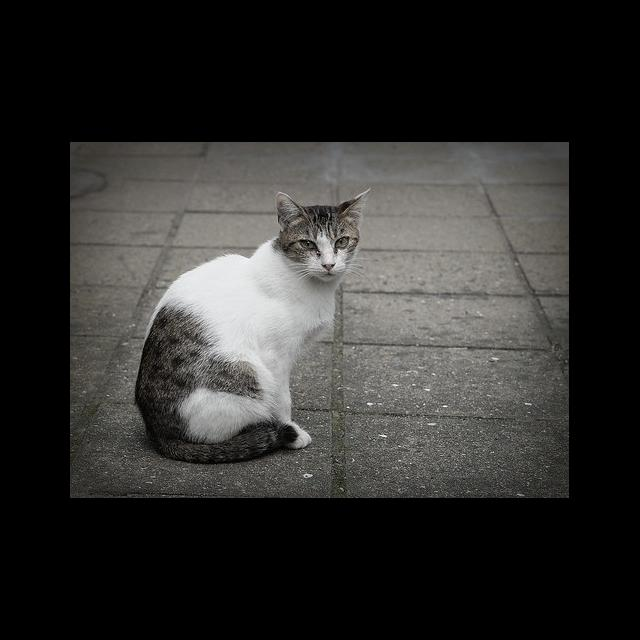animals: (136, 190, 365, 464)
